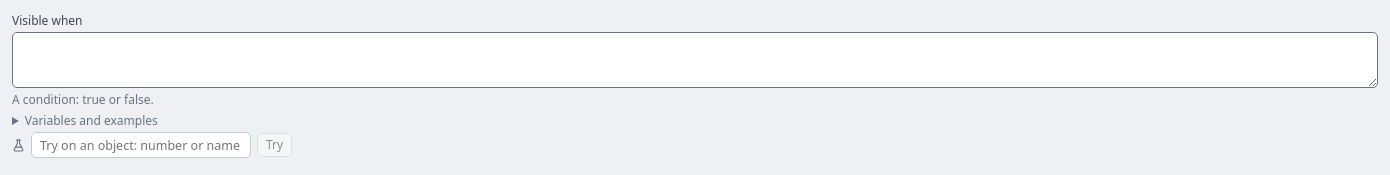
Test: ExpressionField › tries the expression on an object found by number
Type "object.state == 'RELEASED'" into the text box labelled "Visible when".
click(695, 60); type("object.state == 'RELEASED'")  # box [12,32,1378,88]
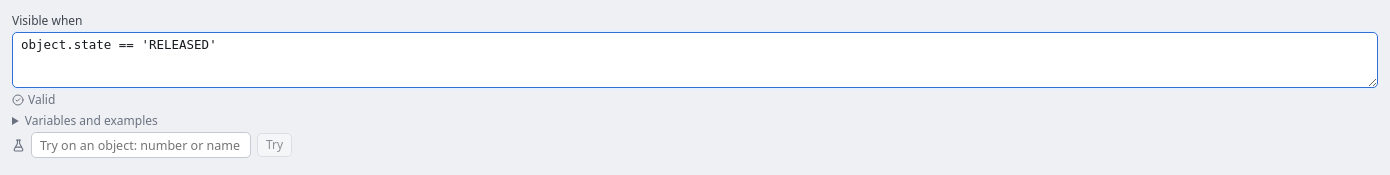
Result: the text "Valid" is shown at [12,91,55,108]
Type "42" into the field named "Try on object".
click(141, 145); type("42")  # box [31,132,251,158]
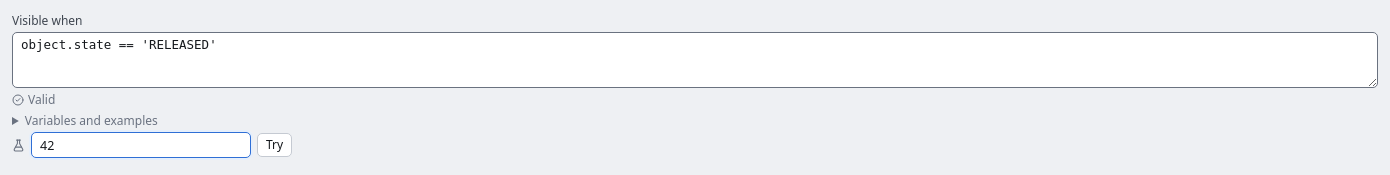
Click the button "Try".
click(275, 145)  # box [257,133,292,157]
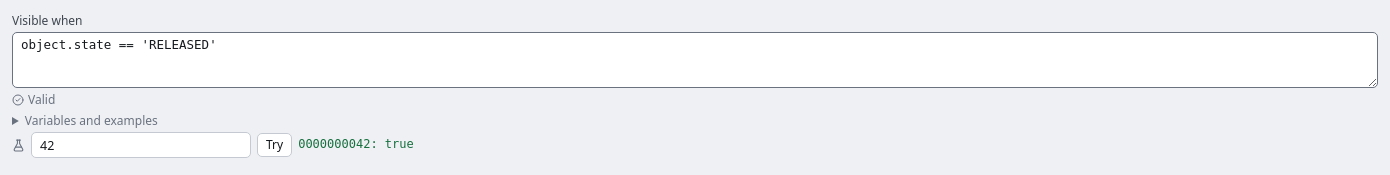
Result: the message reads "0000000042: true" at [298,136,414,154]
